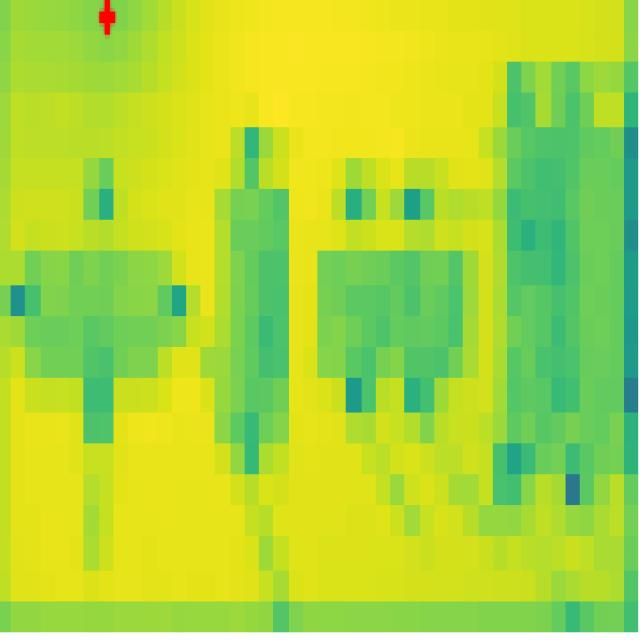Concrete: (316, 249, 476, 380)
Glass: (217, 188, 290, 441)
Metal: (493, 138, 629, 443)
Wood: (26, 251, 172, 379)
